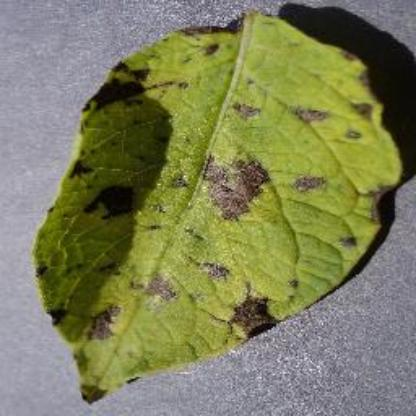Early-Blight: (32, 10, 404, 402)
